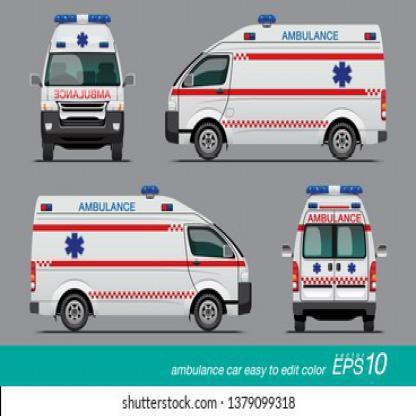Ambulance - v1 Ambulance last generate: (158, 3, 397, 161), (30, 183, 255, 342), (27, 14, 139, 171), (286, 186, 388, 337)
